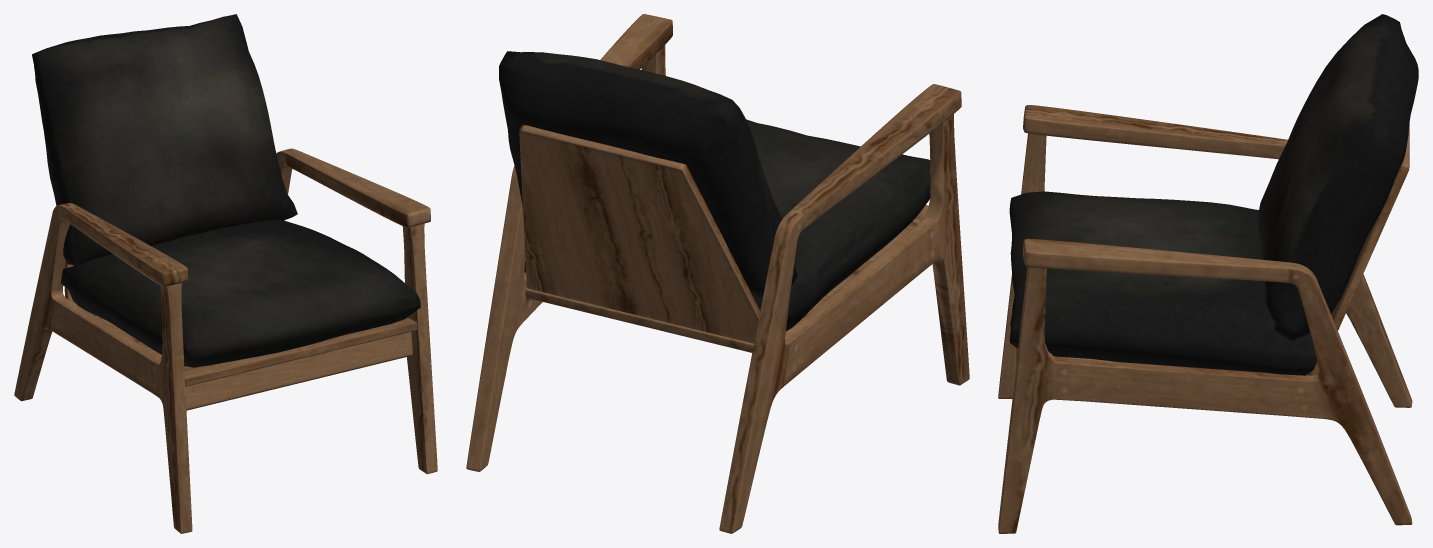
Rendered from modern_arm_chair_01.glb.
3 renders of one model, left to right at view 1: azimuth 30°, elevation 25°; view 2: azimuth 150°, elevation 25°; view 3: azimuth 270°, elevation 25°, orthographic. The views are drawn at different scales.
Visible parts, largest first — view 1: modern_arm_chair_01; view 2: modern_arm_chair_01; view 3: modern_arm_chair_01.
Part boxes in pixels (left/top/right/bottom): modern_arm_chair_01: left=14, top=14, right=437, bottom=533; modern_arm_chair_01: left=466, top=14, right=969, bottom=533; modern_arm_chair_01: left=998, top=14, right=1418, bottom=533.
Bounding box in the file's own units: 0.8203 × 1.02 × 0.9865.
2 materials, 2 textured.
